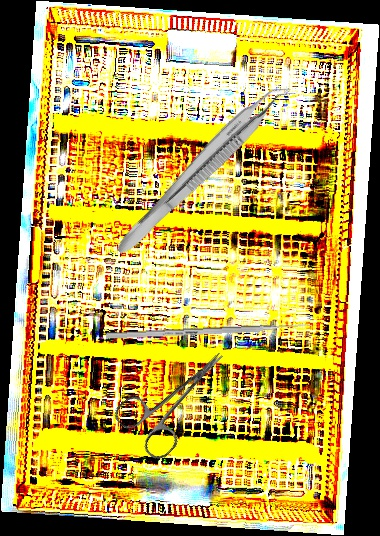Iris Scissors: (110, 331, 247, 464)
Pusher: (105, 321, 320, 340)
Tissue Forceps: (112, 72, 296, 267)
